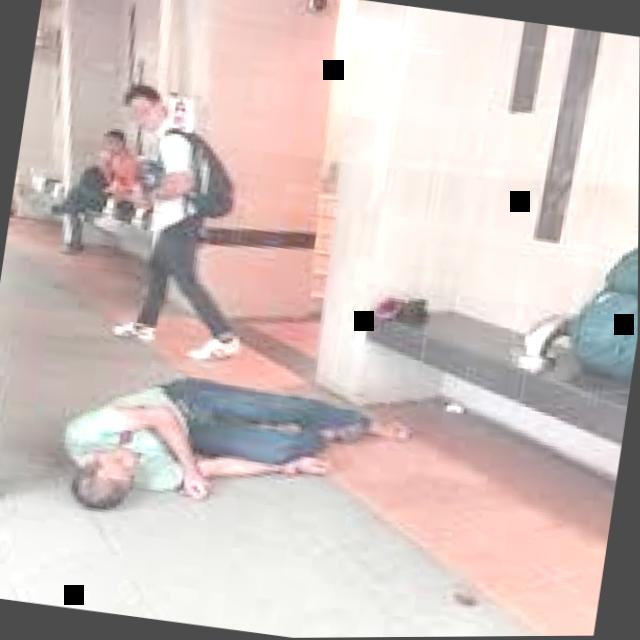Fall-Detected: (39, 338, 421, 557)
